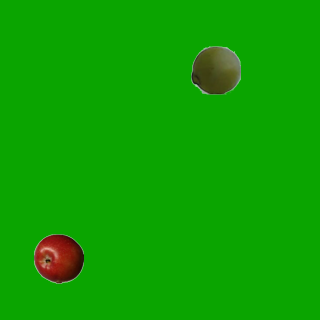Apple Braeburn: (33, 233, 83, 283)
Grape White 4: (190, 44, 240, 94)
